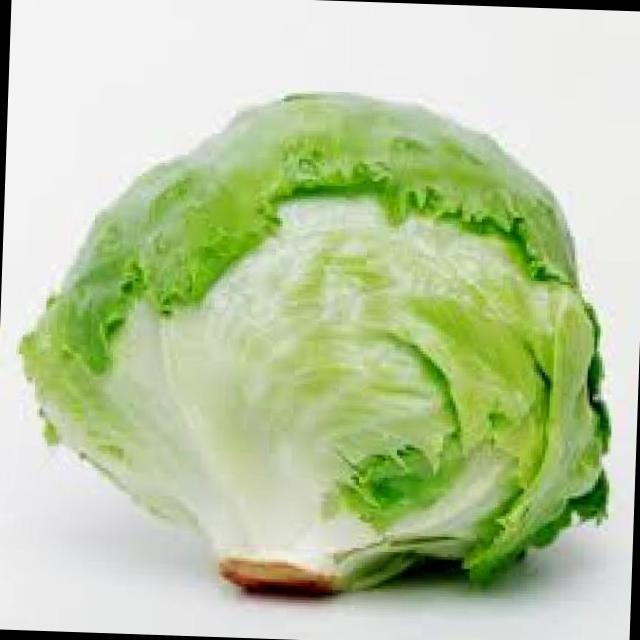Lettuce-Ready-to-Harvest: (21, 93, 609, 593)
